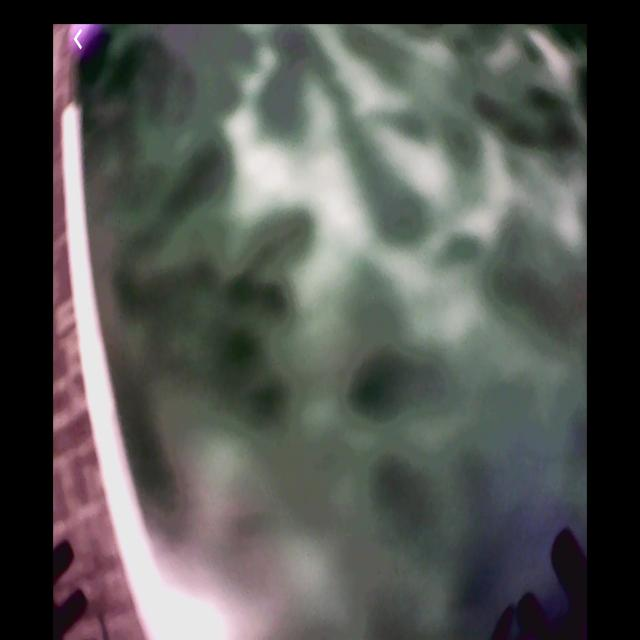ball: (68, 23, 105, 61)
